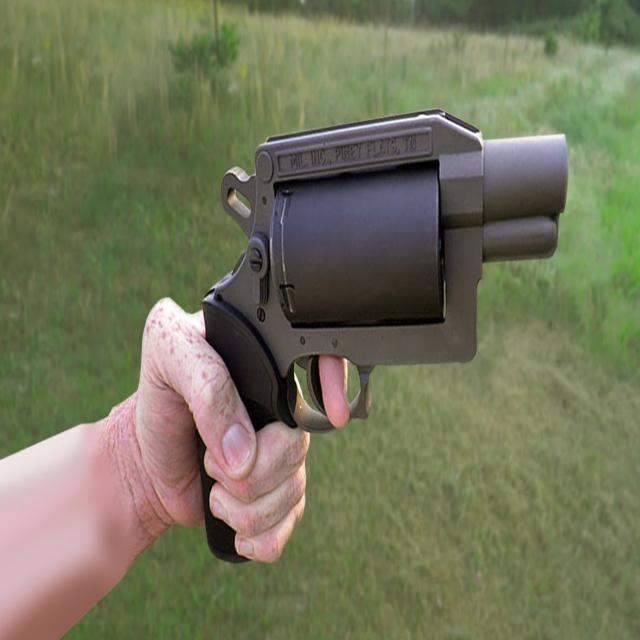Weapon: (203, 110, 567, 431)
